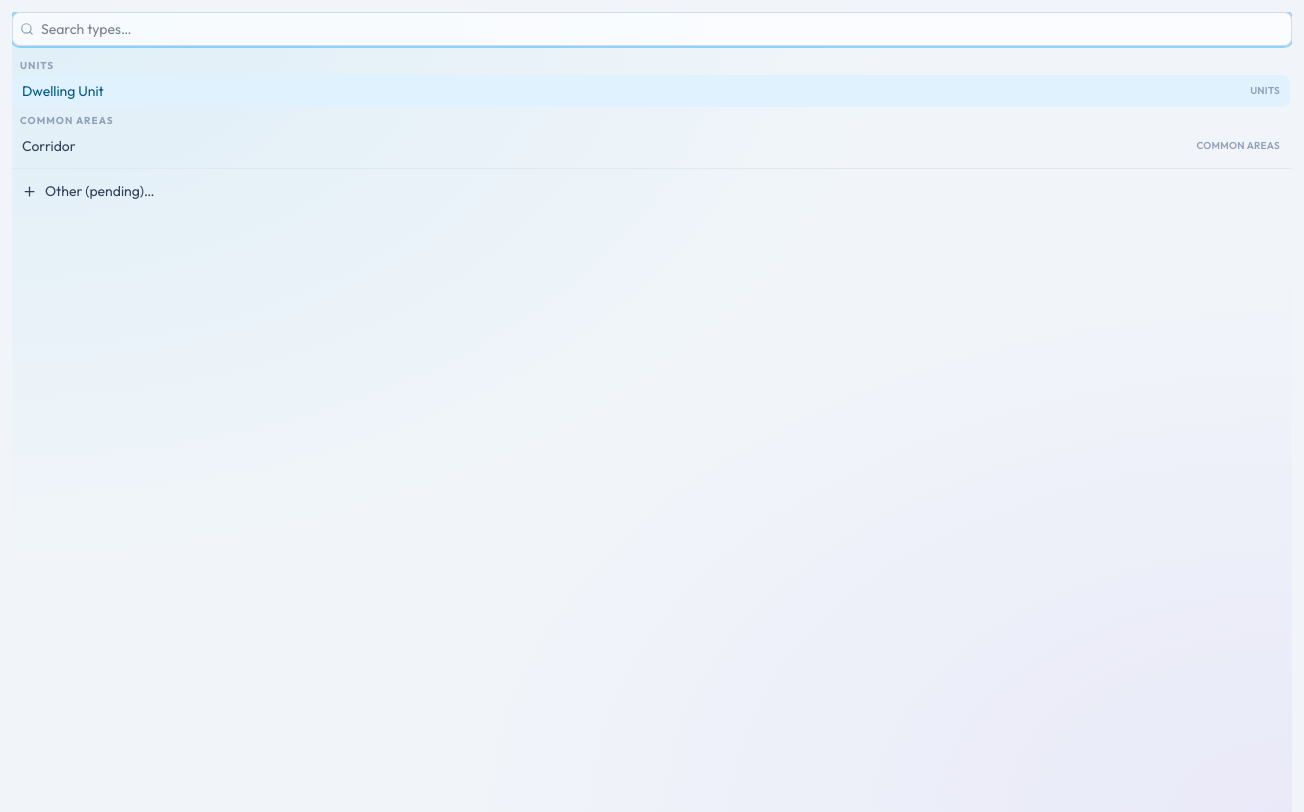
Test case: TaxonomyPicker — combobox behavior › search bypasses the filter — the escape hatch finds a hidden type
Check: the text "Dental Operatory" is not shown
Type "dental" into the dropdown at (652, 29), box [12,12,1292,46]
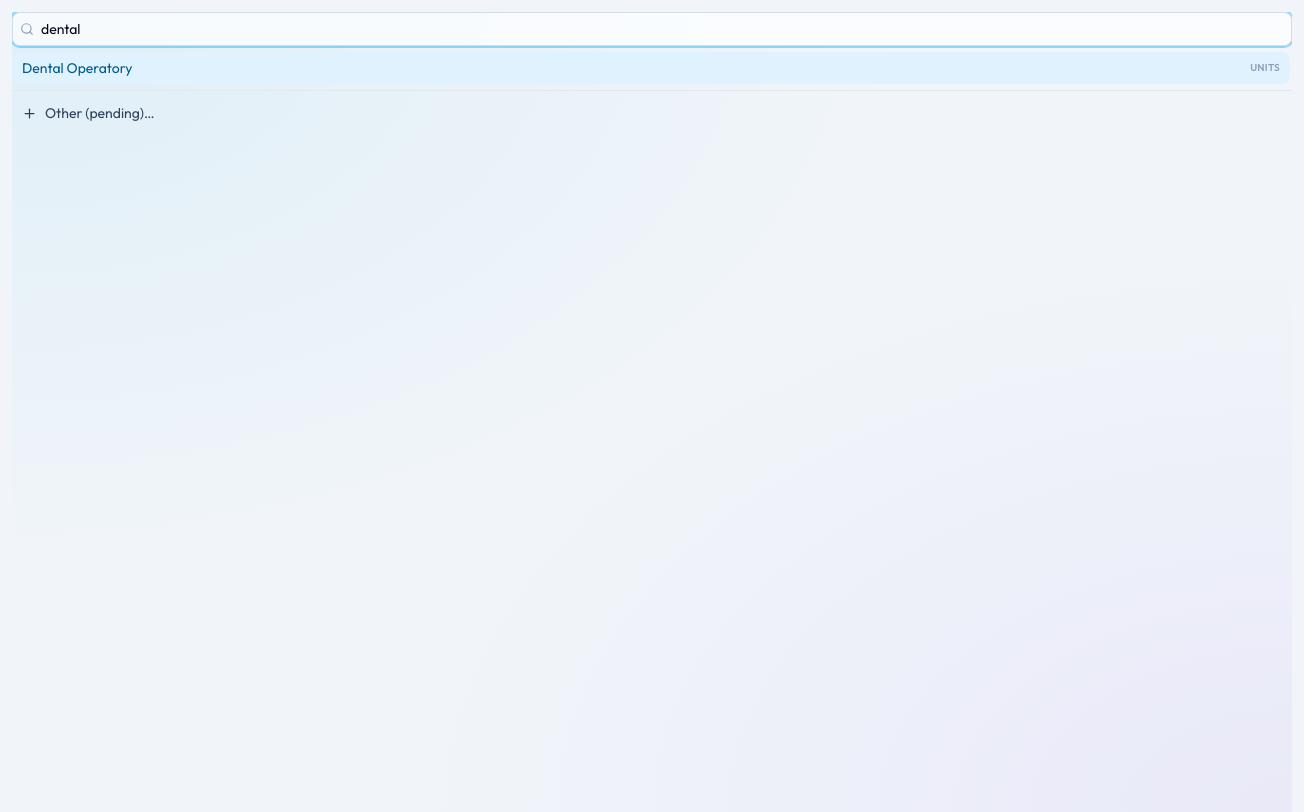
Check: the text "Dental Operatory" is shown, box [22,59,132,77]
